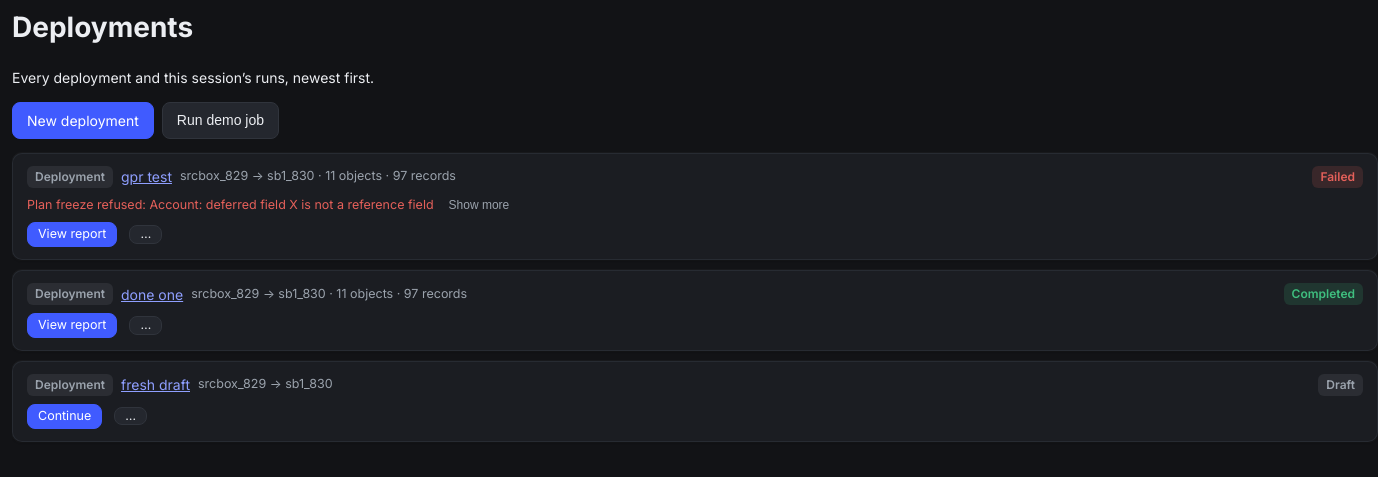
Test: Deployments page — deployment cards (S46 D3 — every mirrored status) › lists Failed, Completed and Draft with a status badge, a one-line error and one CTA each
Expected: the link "gpr test" is shown, [121, 166, 172, 187]
Expected: the text "Failed" is shown, [1312, 166, 1363, 188]
Click the button "Show more": [479, 204] box [442, 196, 516, 212]
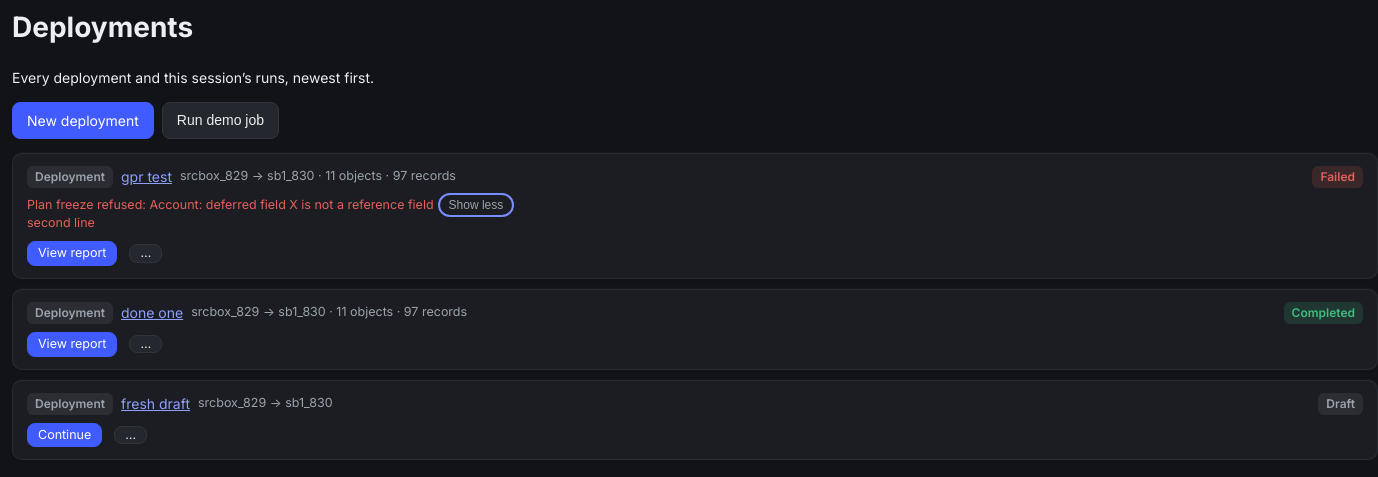
Expected: the link "View report" below "done one" is shown, [27, 332, 117, 357]
Now the text "second line" is shown, box [27, 196, 434, 230]
Now the button "Show less" is shown, box [442, 196, 510, 212]
